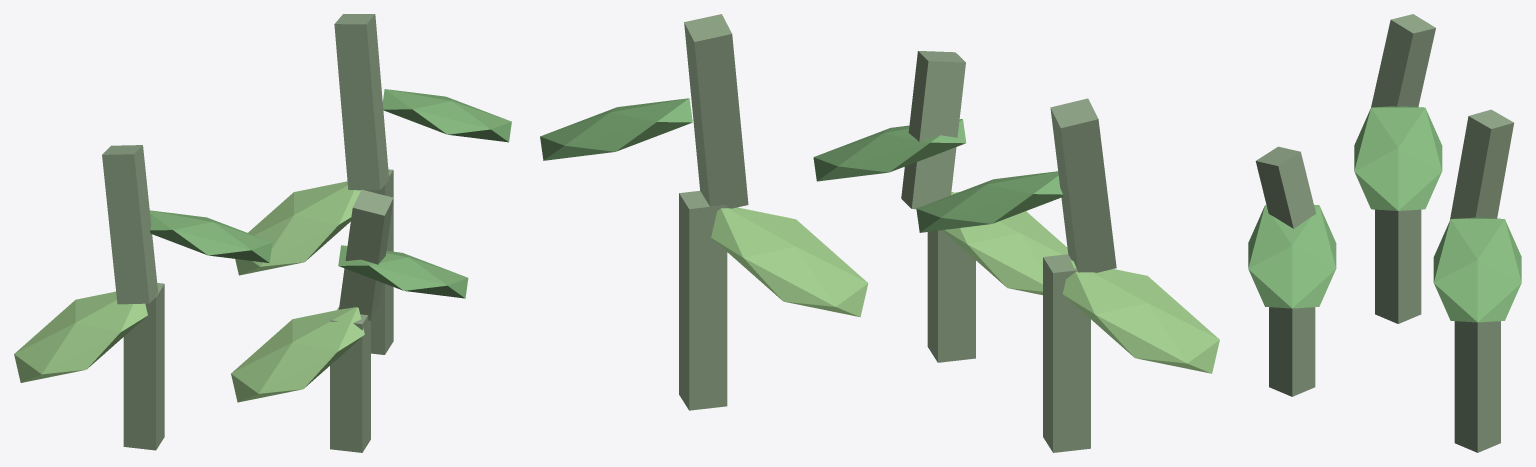
The model's file is vines.glb.
3 renders of one model, left to right at view 1: azimuth 30°, elevation 25°; view 2: azimuth 150°, elevation 25°; view 3: azimuth 270°, elevation 25°, orthographic. The views are drawn at different scales.
Parts seen in each view (by area): view 1: vine_2_top, leaf_1_0, vine_0_top, leaf_0_0, leaf_2_0, vine_0_base, vine_1_base, vine_1_top, leaf_2_1, leaf_0_1, leaf_1_1, vine_2_base; view 2: vine_2_base, leaf_2_0, leaf_0_0, vine_2_top, vine_0_base, vine_0_top, vine_1_top, vine_1_base, leaf_1_0, leaf_2_1, leaf_0_1, leaf_1_1; view 3: leaf_2_1, leaf_0_1, leaf_1_1, vine_2_base, vine_0_base, vine_2_top, vine_0_top, vine_1_base, vine_1_top.
Part boxes in pixels (x1,y1,x2,y2): vine_2_top: (334, 14, 389, 190); leaf_1_0: (231, 307, 364, 402); vine_0_top: (102, 145, 158, 304); leaf_0_0: (14, 291, 147, 382); leaf_2_0: (235, 181, 360, 275); vine_0_base: (123, 283, 164, 450); vine_1_base: (330, 307, 370, 452); vine_1_top: (339, 189, 393, 320); leaf_2_1: (382, 89, 511, 142); leaf_0_1: (149, 210, 272, 262); leaf_1_1: (338, 245, 468, 298); vine_2_base: (365, 169, 393, 354); vine_2_base: (679, 191, 727, 410); leaf_2_0: (711, 207, 868, 317); leaf_0_0: (1063, 260, 1219, 373); vine_2_top: (684, 14, 748, 208); vine_0_base: (1043, 254, 1090, 452); vine_0_top: (1050, 98, 1116, 272); vine_1_top: (901, 51, 965, 209); vine_1_base: (927, 192, 975, 362); leaf_1_0: (942, 192, 1068, 295); leaf_2_1: (540, 98, 692, 160); leaf_0_1: (916, 171, 1063, 232); leaf_1_1: (813, 119, 966, 181); leaf_2_1: (1433, 217, 1521, 322); leaf_0_1: (1354, 106, 1442, 210); leaf_1_1: (1248, 204, 1336, 308); vine_2_base: (1454, 321, 1500, 452); vine_0_base: (1375, 209, 1421, 323); vine_2_top: (1450, 109, 1513, 219); vine_0_top: (1371, 14, 1435, 107); vine_1_base: (1269, 307, 1315, 396); vine_1_top: (1255, 146, 1315, 228).
Bounding box in the file's own units: 0.9082 × 0.5359 × 0.4127.
